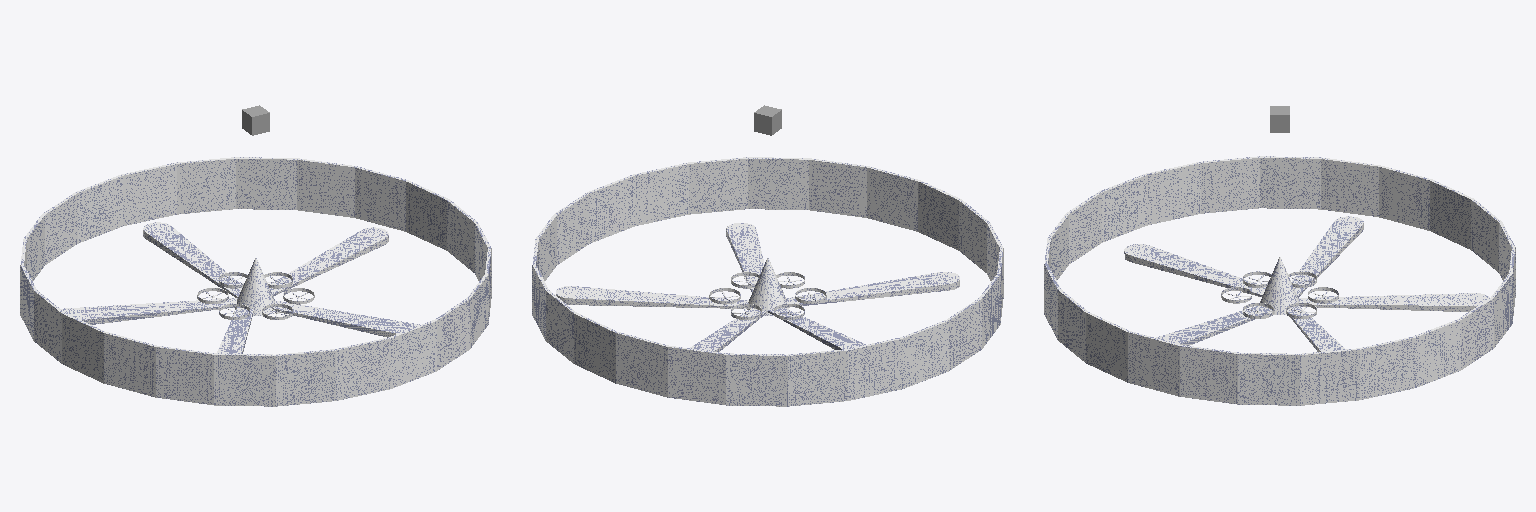
The robot description file, URDF, robot "bluejay":
<?xml version="1.0"?>
<robot name="bluejay">
  <link name="base_link">
    <visual>
      <geometry>
        <mesh filename="package://bluejay_description/meshes/550GoPro/model.dae" scale="0.75 0.75 0.75"/>
      </geometry>
    </visual>
      <collision>
        <geometry>
            <mesh filename="package://bluejay_description/meshes/550GoPro/model.dae" scale="0.75 0.75 0.75"/>
        </geometry>
      </collision>
      <inertial>
        <origin xyz="0 0 0" rpy="0 0 0"/>
        <mass value="10.0" />
        <inertia  ixx="1.0" ixy="0.0"  ixz="0.0"  iyy="1.0"  iyz="0.0"  izz="1.0" />
      </inertial>
  </link>

  <link name="1st_engine">
    <visual>
      <geometry>
        <mesh filename="package://bluejay_description/meshes/Propeller/model.dae" scale="0.05 0.05 0.05"/>
      </geometry>
      <origin rpy="0 0 0" xyz="0 0 +0.05"/>
      <material name="green"/>
    </visual>
    <collision>
      <geometry>
        <mesh filename="package://bluejay_description/meshes/Propeller/model.dae" scale="0.05 0.05 0.05"/>
      </geometry>
    </collision>
    <inertial>
      <mass value="0.5"/>
      <inertia ixx="0.00112" ixy="0.0" ixz="0.0" iyy="0.00112" iyz="0.0" izz="0.00141"/>
    </inertial>
  </link>

  <joint name="base_to_1st_motor" type="fixed">
    <parent link="base_link"/>
    <child link="1st_engine"/>
    <origin xyz="0 0.21 0"/>
  </joint>

    <link name="2nd_engine">
    <visual>
      <geometry>
        <mesh filename="package://bluejay_description/meshes/Propeller/model.dae" scale="0.05 0.05 0.05"/>
      </geometry>
      <origin rpy="0 0 0" xyz="0 0 +0.05"/>
      <material name="green"/>
    </visual>
    <collision>
      <geometry>
        <mesh filename="package://bluejay_description/meshes/Propeller/model.dae" scale="0.05 0.05 0.05"/>
      </geometry>
    </collision>

    <inertial>
      <mass value="0.5"/>
      <inertia ixx="0.00112" ixy="0.0" ixz="0.0" iyy="0.00112" iyz="0.0" izz="0.00141"/>
    </inertial>
  </link>

  <joint name="base_to_2nd_motor" type="fixed">
    <parent link="base_link"/>
    <child link="2nd_engine"/>
    <origin xyz="0.18 0.105 0"/>
  </joint>

    <link name="3rd_engine">
    <visual>
      <geometry>
        <mesh filename="package://bluejay_description/meshes/Propeller/model.dae" scale="0.05 0.05 0.05"/>
      </geometry>
      <origin rpy="0 0 0" xyz="0 0 +0.05"/>
      <material name="green"/>
    </visual>
    <collision>
      <geometry>
        <mesh filename="package://bluejay_description/meshes/Propeller/model.dae" scale="0.05 0.05 0.05"/>
      </geometry>
    </collision>
    <inertial>
      <mass value="0.5"/>
      <inertia ixx="0.00112" ixy="0.0" ixz="0.0" iyy="0.00112" iyz="0.0" izz="0.00141"/>
    </inertial>
  </link>

  <joint name="base_to_3rd_motor" type="fixed">
    <parent link="base_link"/>
    <child link="3rd_engine"/>
    <origin xyz="0.18 -0.105 0"/>
  </joint>

  <link name="4th_engine">
    <visual>
      <geometry>
        <mesh filename="package://bluejay_description/meshes/Propeller/model.dae" scale="0.05 0.05 0.05"/>
      </geometry>
      <origin rpy="0 0 0" xyz="0 0 +0.05"/>
      <material name="green"/>
    </visual>
    <collision>
      <geometry>
        <mesh filename="package://bluejay_description/meshes/Propeller/model.dae" scale="0.05 0.05 0.05"/>
      </geometry>
    </collision>
    <inertial>
      <mass value="0.5"/>
      <inertia ixx="0.00112" ixy="0.0" ixz="0.0" iyy="0.00112" iyz="0.0" izz="0.00141"/>
    </inertial>
  </link>

  <joint name="base_to_4th_motor" type="fixed">
    <parent link="base_link"/>
    <child link="4th_engine"/>
    <origin xyz="0 -0.21 0"/>
  </joint>

  <link name="5th_engine">
    <visual>
      <geometry>
        <mesh filename="package://bluejay_description/meshes/Propeller/model.dae" scale="0.05 0.05 0.05"/>
      </geometry>
      <origin rpy="0 0 0" xyz="0 0 +0.05"/>
      <material name="green"/>
    </visual>
    <collision>
      <geometry>
        <mesh filename="package://bluejay_description/meshes/Propeller/model.dae" scale="0.05 0.05 0.05"/>
      </geometry>
    </collision>
    <inertial>
      <mass value="0.5"/>
      <inertia ixx="0.00112" ixy="0.0" ixz="0.0" iyy="0.00112" iyz="0.0" izz="0.00141"/>
    </inertial>
  </link>

  <joint name="base_to_5th_motor" type="fixed">
    <parent link="base_link"/>
    <child link="5th_engine"/>
    <origin xyz="-0.18 -0.105 0"/>
  </joint>

  <link name="6th_engine">
    <visual>
      <geometry>
        <mesh filename="package://bluejay_description/meshes/Propeller/model.dae" scale="0.05 0.05 0.05"/>
      </geometry>
      <origin rpy="0 0 0" xyz="0 0 +0.05"/>
      <material name="green"/>
    </visual>
    <collision>
      <geometry>
        <mesh filename="package://bluejay_description/meshes/Propeller/model.dae" scale="0.05 0.05 0.05"/>
      </geometry>
    </collision>
    <inertial>
      <mass value="0.5"/>
      <inertia ixx="0.00112" ixy="0.0" ixz="0.0" iyy="0.00112" iyz="0.0" izz="0.00141"/>
    </inertial>
  </link>

  <joint name="base_to_6th_motor" type="fixed">
    <parent link="base_link"/>
    <child link="6th_engine"/>
    <origin xyz="-0.18 0.105 0"/>
  </joint>

<joint name="hokuyo_joint" type="fixed">
  <axis xyz="0 1 0" />
  <origin xyz="0 0 1" rpy="0 0 0"/>
  <parent link="base_link"/>
  <child link="hokuyo_link"/>
</joint>

<!-- Hokuyo Laser -->
<link name="hokuyo_link">
  <collision>
    <origin xyz="0 0 0" rpy="0 0 0"/>
    <geometry>
  <box size="0.1 0.1 0.1"/>
    </geometry>
  </collision>

  <visual>
    <origin xyz="0 0 0" rpy="0 0 0"/>
    <geometry>
      <box size="0.1 0.1 0.1"/>
    </geometry>
  </visual>

  <inertial>
    <mass value="1e-5" />
    <origin xyz="0 0 0" rpy="0 0 0"/>
    <inertia ixx="1e-6" ixy="0" ixz="0" iyy="1e-6" iyz="0" izz="1e-6" />
  </inertial>
</link>

<!-- hokuyo -->
  <gazebo reference="hokuyo_link">
    <sensor type="ray" name="head_hokuyo_sensor">
      <pose>0 0 0 0 0 0</pose>
      <visualize>false</visualize>
      <update_rate>40</update_rate>
      <ray>
        <scan>
          <horizontal>
            <samples>720</samples>
            <resolution>1</resolution>
            <min_angle>-1.570796</min_angle>
            <max_angle>1.570796</max_angle>
          </horizontal>
        </scan>
        <range>
          <min>0.10</min>
          <max>30.0</max>
          <resolution>0.01</resolution>
        </range>
        <noise>
          <type>gaussian</type>
          <!-- Noise parameters based on published spec for Hokuyo laser
               achieving "+-30mm" accuracy at range < 10m.  A mean of 0.0m and
               stddev of 0.01m will put 99.7% of samples within 0.03m of the true
               reading. -->
          <mean>0.0</mean>
          <stddev>0.01</stddev>
        </noise>
      </ray>
      <plugin name="gazebo_ros_head_hokuyo_controller" filename="libgazebo_ros_laser.so">
        <topicName>/rrbot/laser/scan</topicName>
        <frameName>hokuyo_link</frameName>
      </plugin>
    </sensor>
  </gazebo>

</robot>

--- Render facts (derived) ---
3 views of the same robot in one strip: view 1: azimuth 30°, elevation 25°; view 2: azimuth 150°, elevation 25°; view 3: azimuth 270°, elevation 25° (orthographic).
Robot: bluejay — 8 links, 7 joints (7 fixed); root link base_link; default pose: every joint at zero.
Links seen in each view (by area): view 1: base_link, hokuyo_link; view 2: base_link, hokuyo_link; view 3: base_link, hokuyo_link.
Boxes of the visible links, bbox=[...] form: base_link: bbox=[20, 157, 491, 406]; hokuyo_link: bbox=[242, 105, 269, 135]; base_link: bbox=[532, 157, 1003, 406]; hokuyo_link: bbox=[754, 105, 781, 135]; base_link: bbox=[1044, 156, 1515, 405]; hokuyo_link: bbox=[1270, 106, 1289, 132].
Bounding box of the posed robot: 2.29 × 2.29 × 1.07 m (x, y, z).
Meshes: 2 distinct files referenced, 7 mesh visuals loaded (1 Collada DAE).
